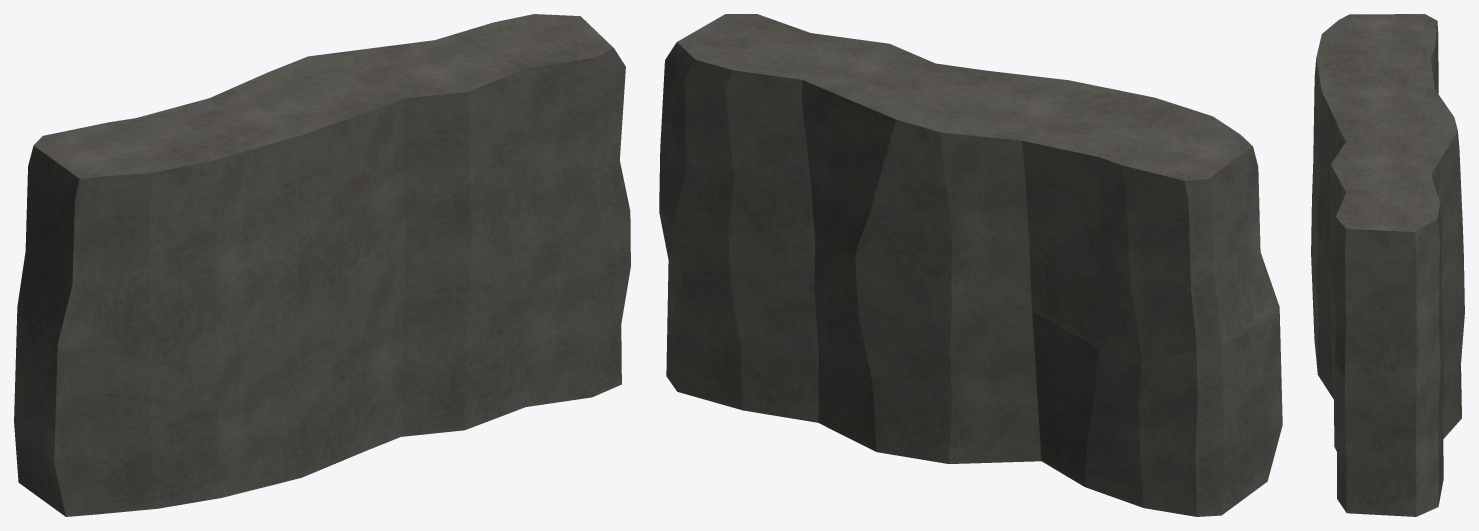
Rendered from ZachMesaRock3.fbx.
3 views of the same model, side by side, from view 1: azimuth 30°, elevation 25°; view 2: azimuth 150°, elevation 25°; view 3: azimuth 270°, elevation 25° (orthographic). The views are drawn at different scales.
Visible parts, largest first — view 1: ZachMesaRock3; view 2: ZachMesaRock3; view 3: ZachMesaRock3.
Boxes of the visible parts, box(x1,y1,x2,y2) form: ZachMesaRock3: box(14, 14, 630, 516); ZachMesaRock3: box(659, 14, 1282, 516); ZachMesaRock3: box(1311, 14, 1464, 516).
Size of the model in its own units: 40.2 by 22.47 by 11.03.
